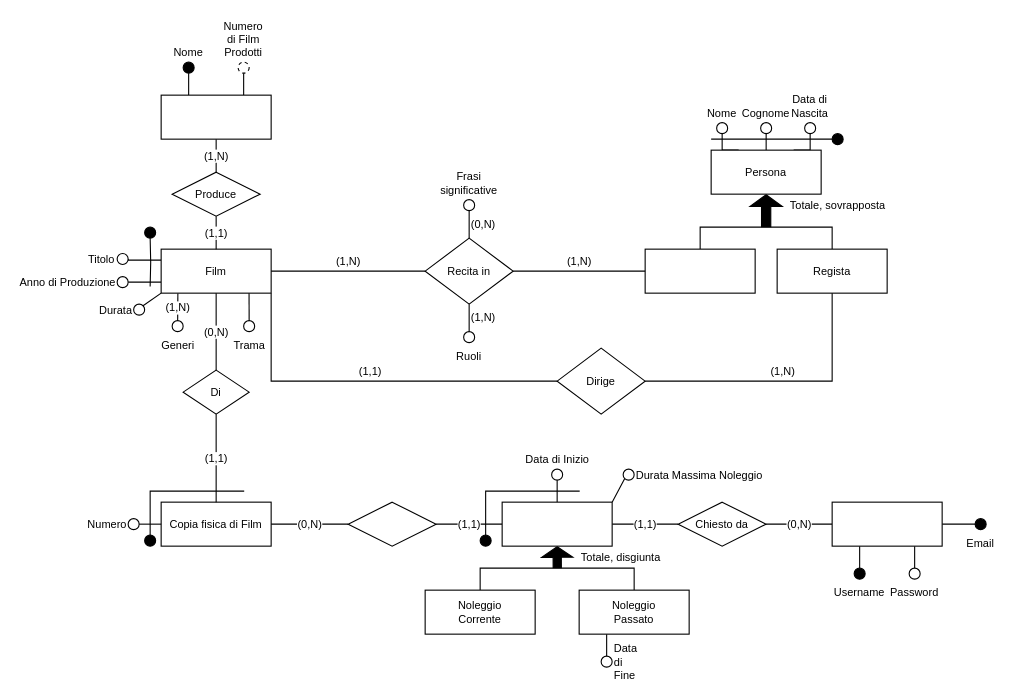
Some shapes in this 1013 by 700 pixel diagram are drawn without their labels. Here are the shapes that lost their labels. From the top down, the centre of each, then its label:
point (215, 116): Azienda Produttrice
point (699, 270): Attore
point (391, 523): Viene Noleggiato
point (556, 523): Noleggio
point (886, 523): Cliente Registrato
